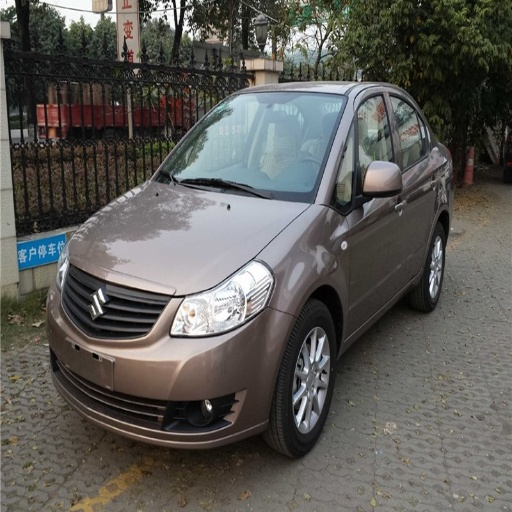front_bumper: (52, 265, 291, 448)
front_glass: (155, 92, 348, 202)
front_left_door: (336, 89, 406, 331)
